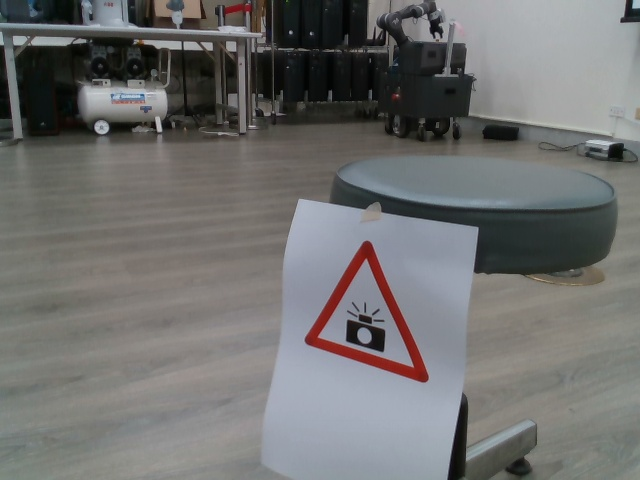camera: (303, 241, 431, 386)
